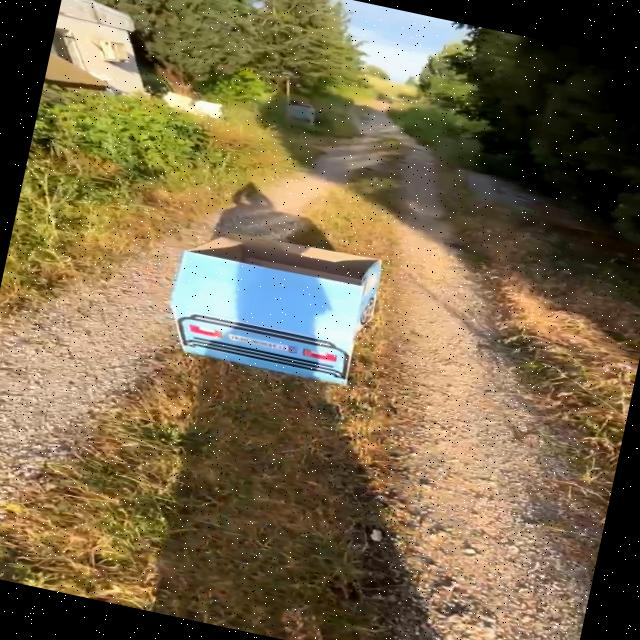blue_car: (110, 188, 437, 437)
